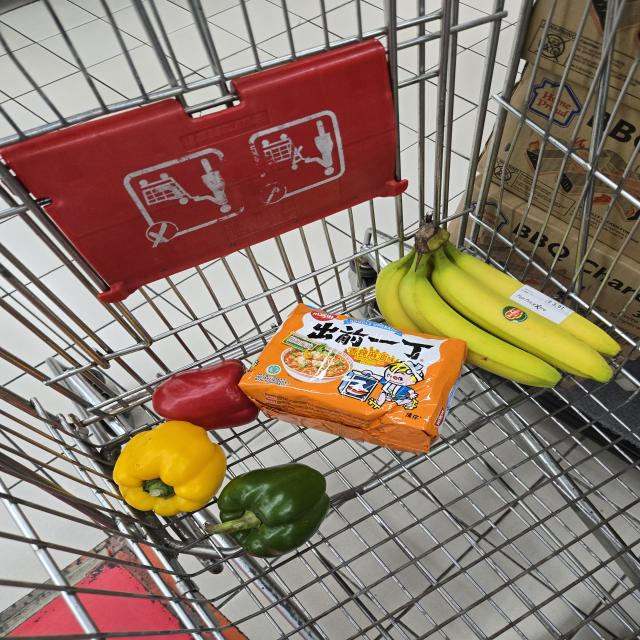banana: (380, 213, 640, 396)
bell-pepper: (188, 458, 339, 570), (114, 412, 242, 518), (150, 352, 284, 430)
instant-noodle: (248, 308, 465, 460)
